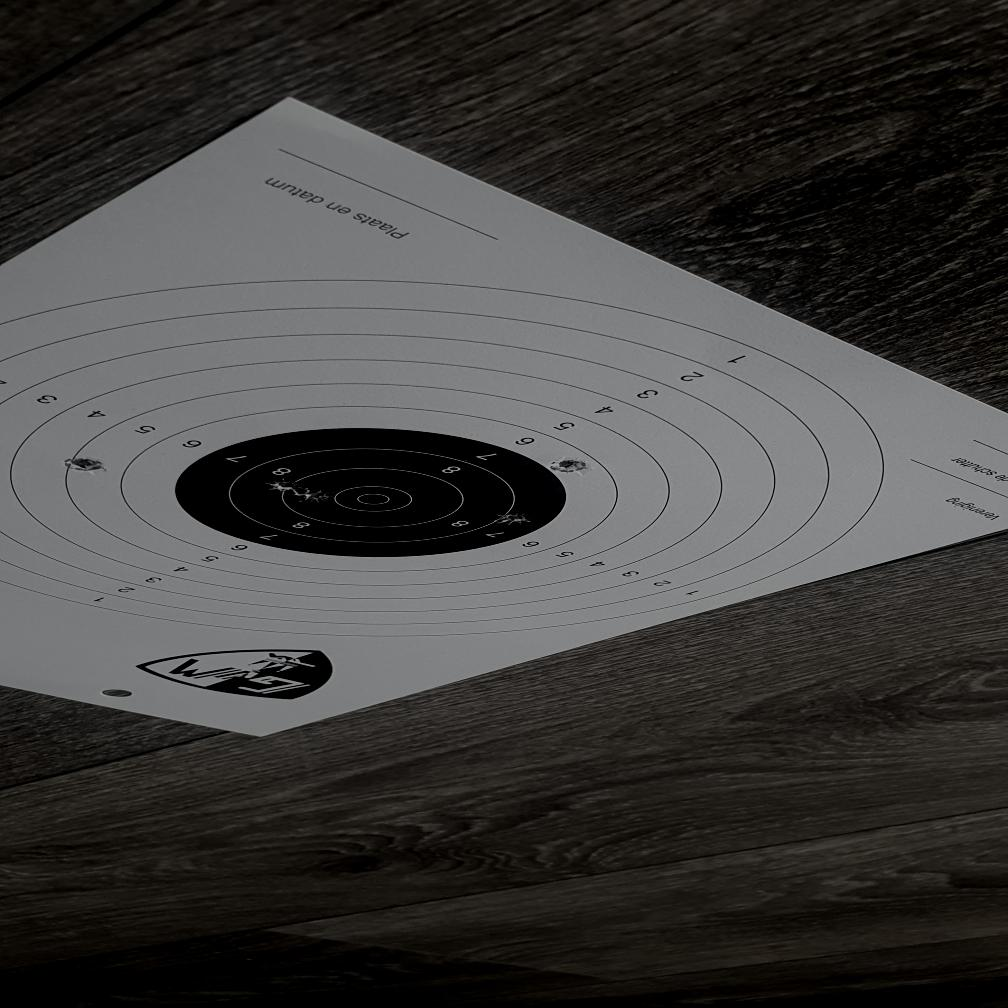5: (60, 455, 108, 474)
6: (551, 457, 586, 475)
8: (494, 512, 534, 523)
9: (298, 487, 333, 505), (266, 479, 302, 494)
Target: (0, 280, 871, 640)
black_contour: (177, 427, 564, 559)
